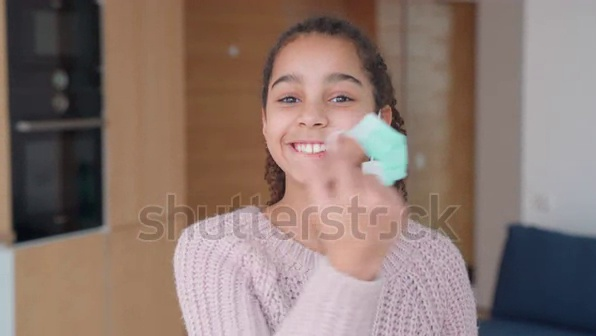No Mask: (259, 116, 385, 178)
